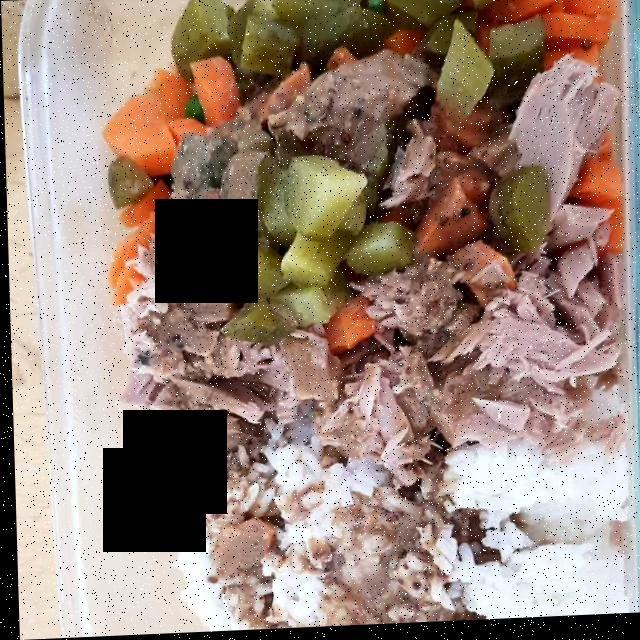cucumber-pickled: (171, 0, 577, 352)
rice: (129, 255, 640, 621)
tuna: (153, 53, 621, 627)
vegetables: (115, 0, 633, 359)
